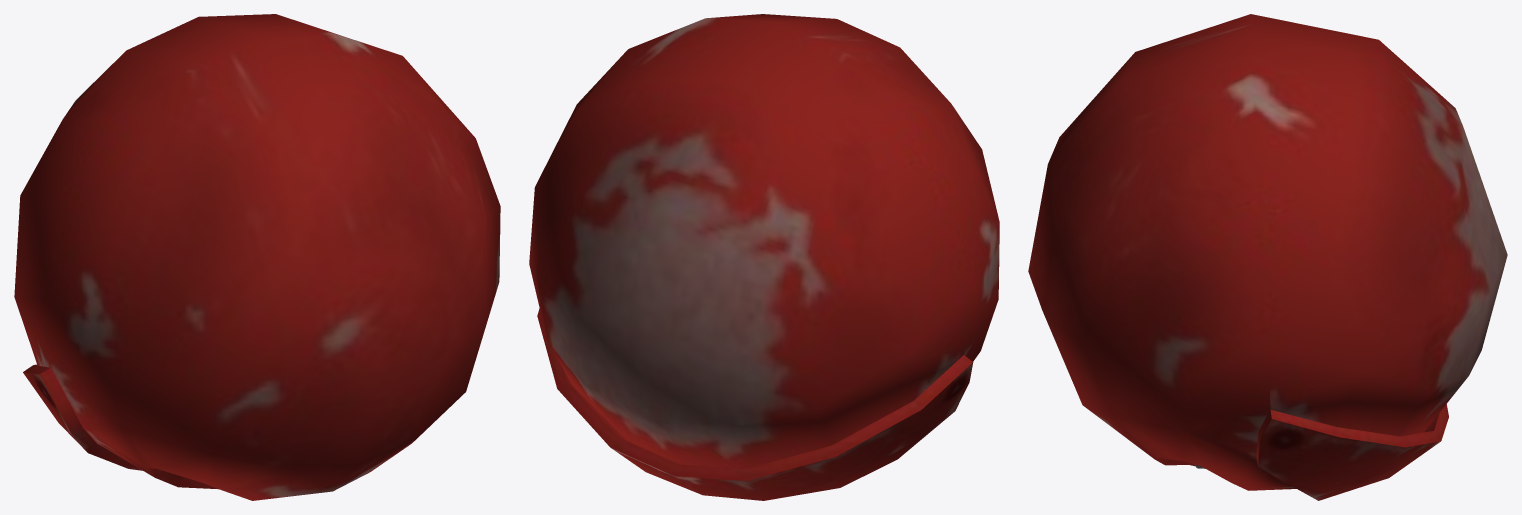
The model's file is murphy_01.obj.
3 views of the same model, side by side, from view 1: azimuth 30°, elevation 25°; view 2: azimuth 150°, elevation 25°; view 3: azimuth 270°, elevation 25° (orthographic). The views are drawn at different scales.
Parts seen in each view (by area): view 1: Object01, Object02; view 2: Object01, Object02; view 3: Object01, Object02.
Part boxes in pixels (left/top/right/bottom): Object01: left=14, top=14, right=500, bottom=500; Object02: left=23, top=364, right=142, bottom=470; Object01: left=529, top=14, right=999, bottom=468; Object02: left=537, top=308, right=973, bottom=500; Object01: left=1028, top=14, right=1507, bottom=490; Object02: left=1256, top=404, right=1448, bottom=500.
Size of the model in its own units: 20.08 by 20.15 by 19.83.
Materials: 1 (1 with a texture image).
